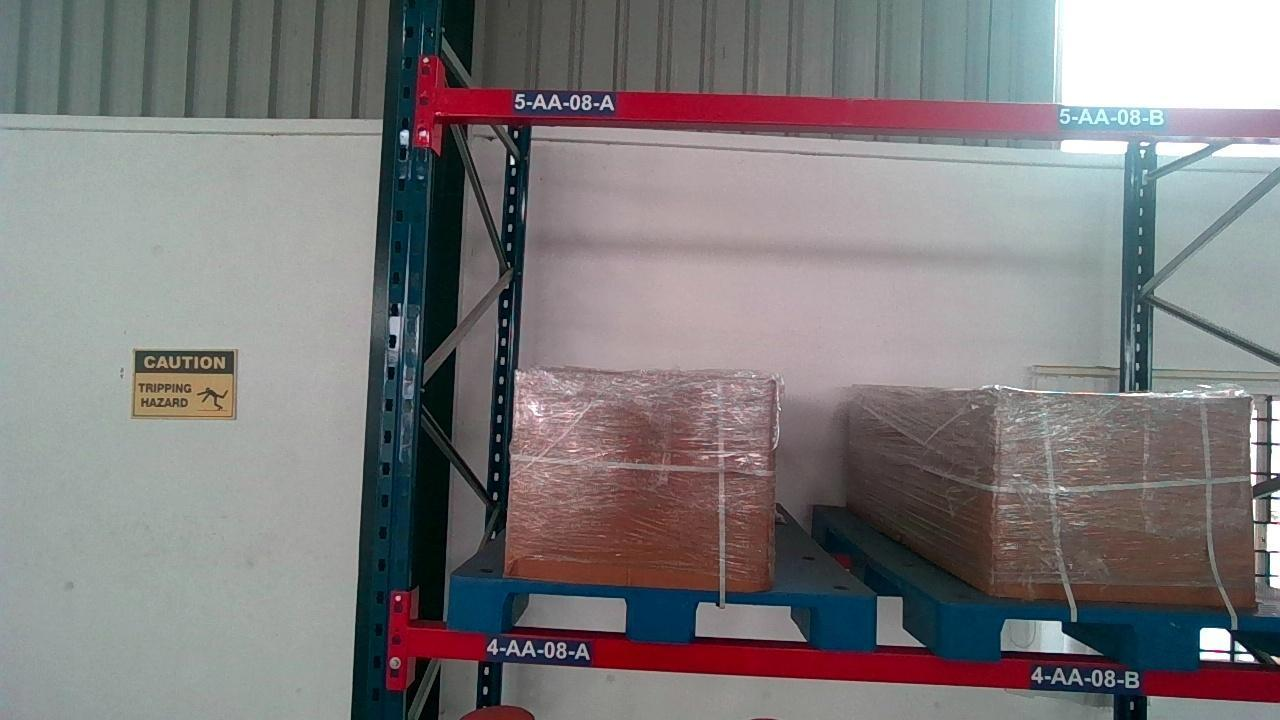h_rack: (415, 638, 1280, 688), (426, 88, 1191, 134), (1038, 104, 1280, 135)
small_pallet: (445, 581, 881, 646), (948, 607, 1278, 666)
